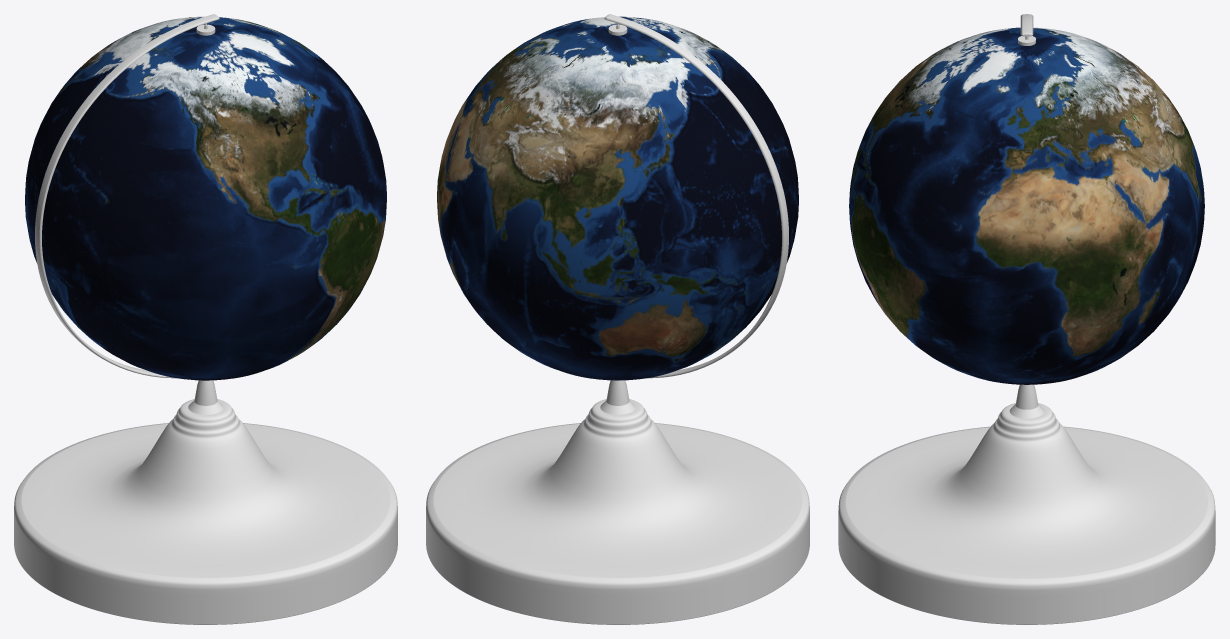
The model's file is Globe test.fbx.
The picture shows the model from 3 angles, left to right: view 1: azimuth 30°, elevation 25°; view 2: azimuth 150°, elevation 25°; view 3: azimuth 270°, elevation 25°; orthographic projection.
Visible parts, largest first — view 1: Sphere, Cylinder, Circle, Cylinder.004; view 2: Sphere, Cylinder, Circle, Cylinder.004; view 3: Sphere, Cylinder, Cylinder.004.
Part boxes in pixels (bbox=[...]): Sphere: bbox=[25, 16, 386, 380]; Cylinder: bbox=[14, 399, 397, 624]; Circle: bbox=[35, 14, 219, 378]; Cylinder.004: bbox=[188, 380, 223, 414]; Sphere: bbox=[437, 16, 798, 380]; Cylinder: bbox=[426, 399, 809, 624]; Circle: bbox=[604, 14, 788, 378]; Cylinder.004: bbox=[600, 380, 635, 414]; Sphere: bbox=[849, 27, 1204, 384]; Cylinder: bbox=[838, 403, 1215, 624]; Cylinder.004: bbox=[1009, 384, 1044, 418].
Size of the model in its own units: 201 by 301 by 199.
1 material, 1 textured.
